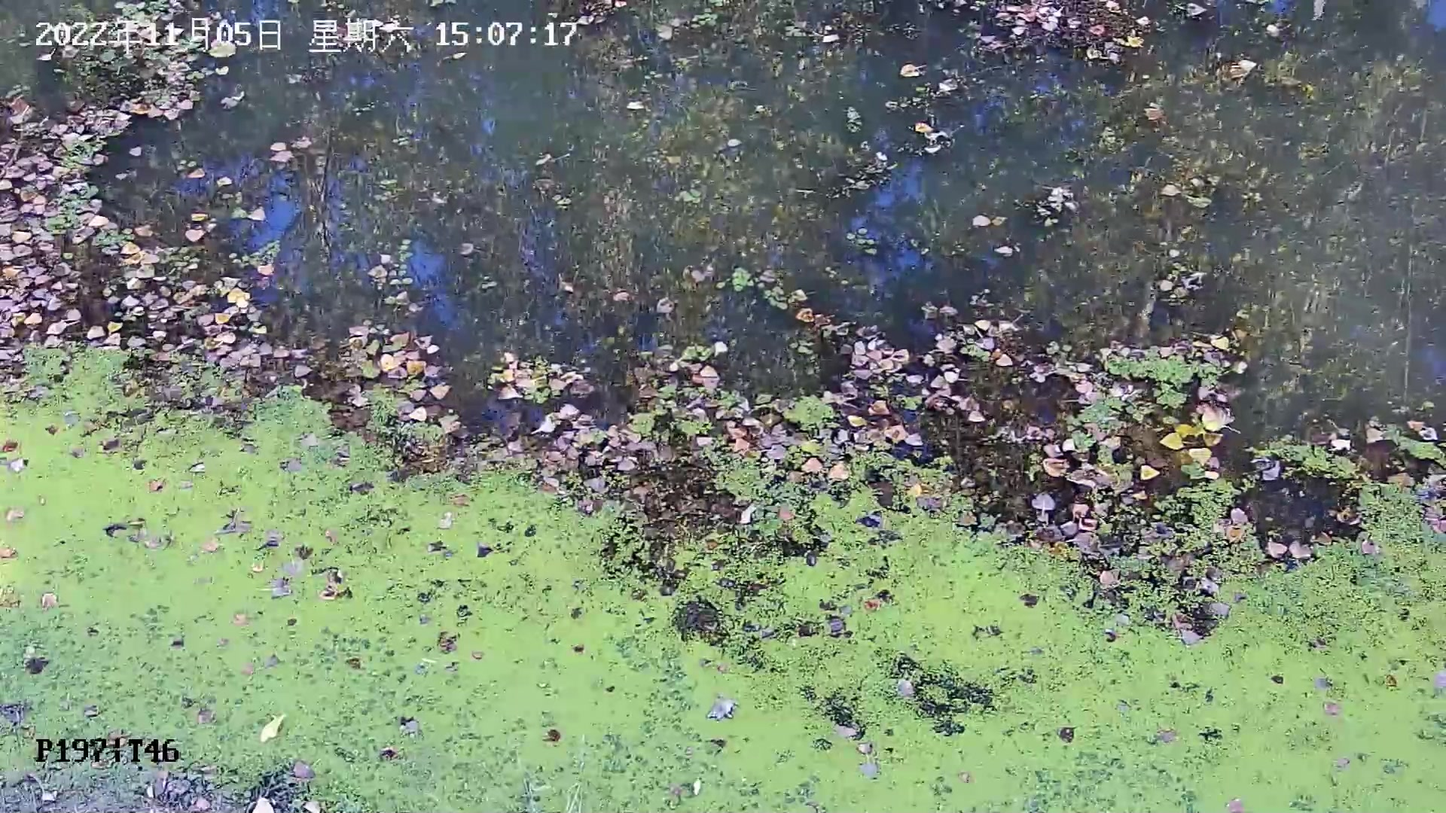floater: (2, 355, 1267, 813), (483, 299, 1264, 512), (2, 3, 279, 364), (1267, 423, 1445, 813), (960, 2, 1164, 68), (326, 317, 458, 403)
